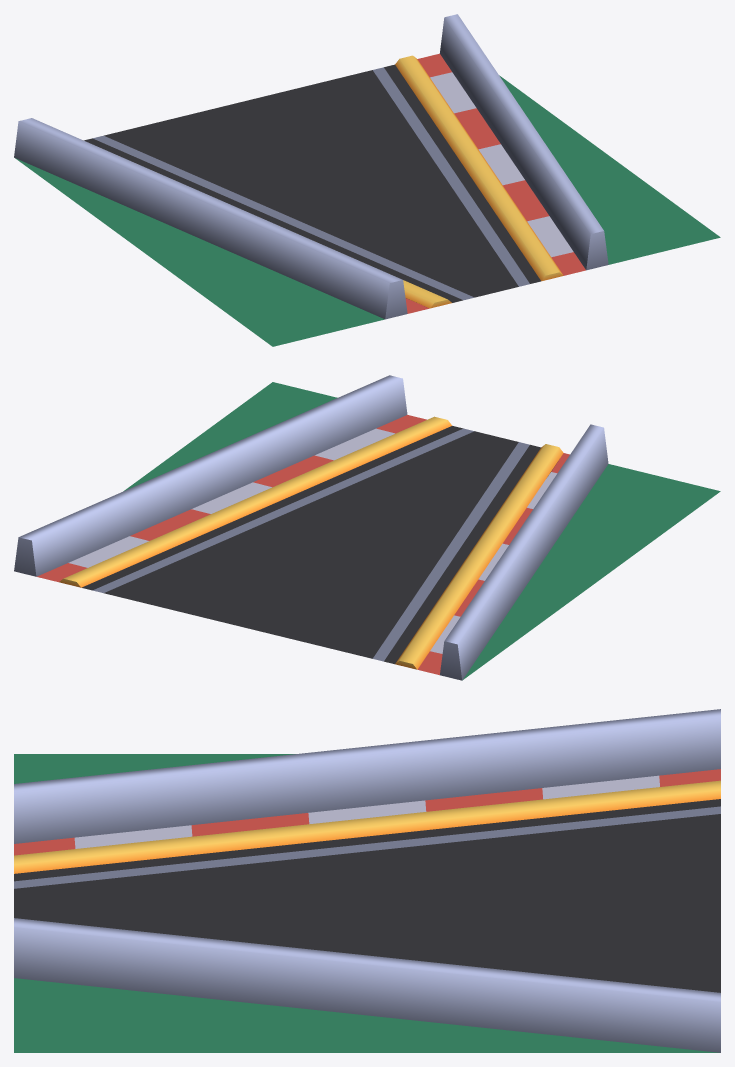
The model's file is track-wide-thin.glb.
3 renders of one model, top to bottom at view 1: azimuth 30°, elevation 25°; view 2: azimuth 150°, elevation 25°; view 3: azimuth 270°, elevation 25°, orthographic. The views are drawn at different scales.
Visible parts, largest first — view 1: track-straight.010; view 2: track-straight.010; view 3: track-straight.010.
Boxes of the visible parts, left/top/right/bottom form: track-straight.010: left=14, top=14, right=720, bottom=346; track-straight.010: left=14, top=375, right=720, bottom=680; track-straight.010: left=14, top=709, right=720, bottom=1052.
Size of the model in its own units: 10 by 0.75 by 10.
1 material, 1 textured.
